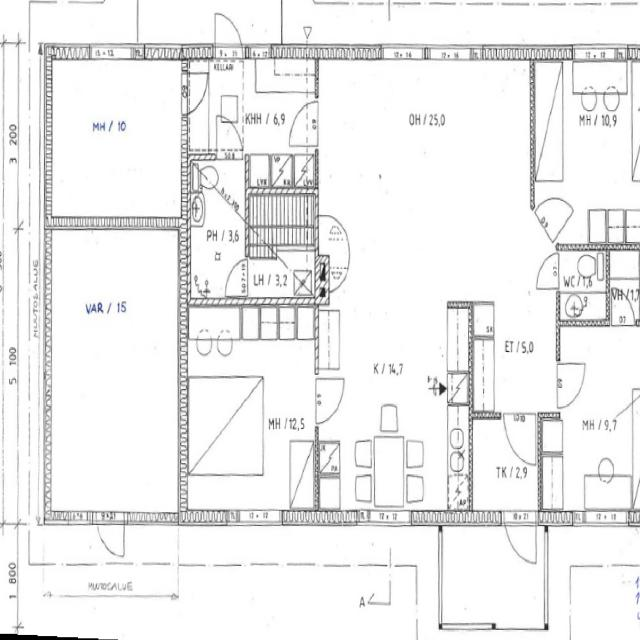door: (533, 176, 574, 243), (504, 511, 536, 576), (504, 411, 535, 469), (96, 510, 124, 570), (216, 1, 242, 60), (315, 378, 348, 424), (556, 363, 588, 408), (216, 108, 242, 160), (288, 102, 319, 144), (180, 74, 214, 112), (224, 260, 250, 295), (535, 254, 560, 287), (613, 286, 633, 327)
